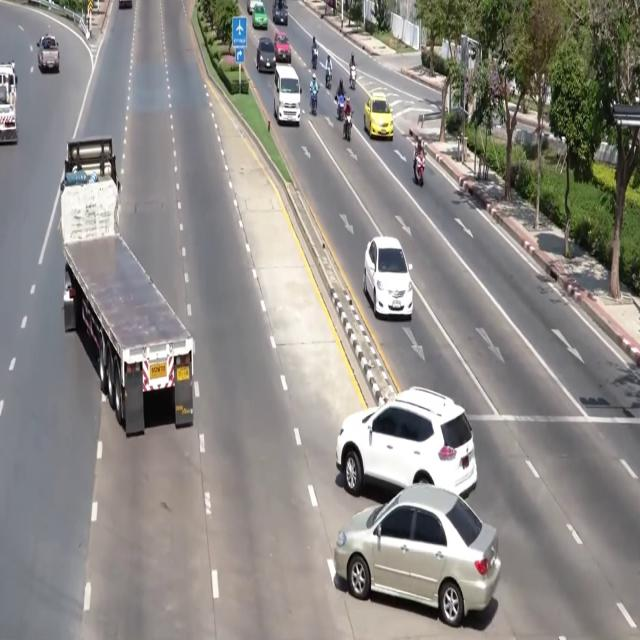car: (334, 485, 501, 627), (336, 387, 477, 495), (364, 237, 413, 318), (274, 64, 300, 126), (364, 92, 393, 139), (37, 34, 59, 72), (256, 37, 275, 72), (274, 32, 291, 63), (252, 3, 267, 30), (272, 0, 287, 25), (247, 0, 260, 15)
scooty: (414, 154, 424, 187), (344, 113, 351, 142), (337, 95, 344, 120), (311, 90, 317, 116), (350, 65, 356, 90), (312, 47, 318, 70), (326, 69, 331, 90)
truck: (59, 138, 193, 435), (0, 63, 17, 143), (119, 0, 132, 8)
